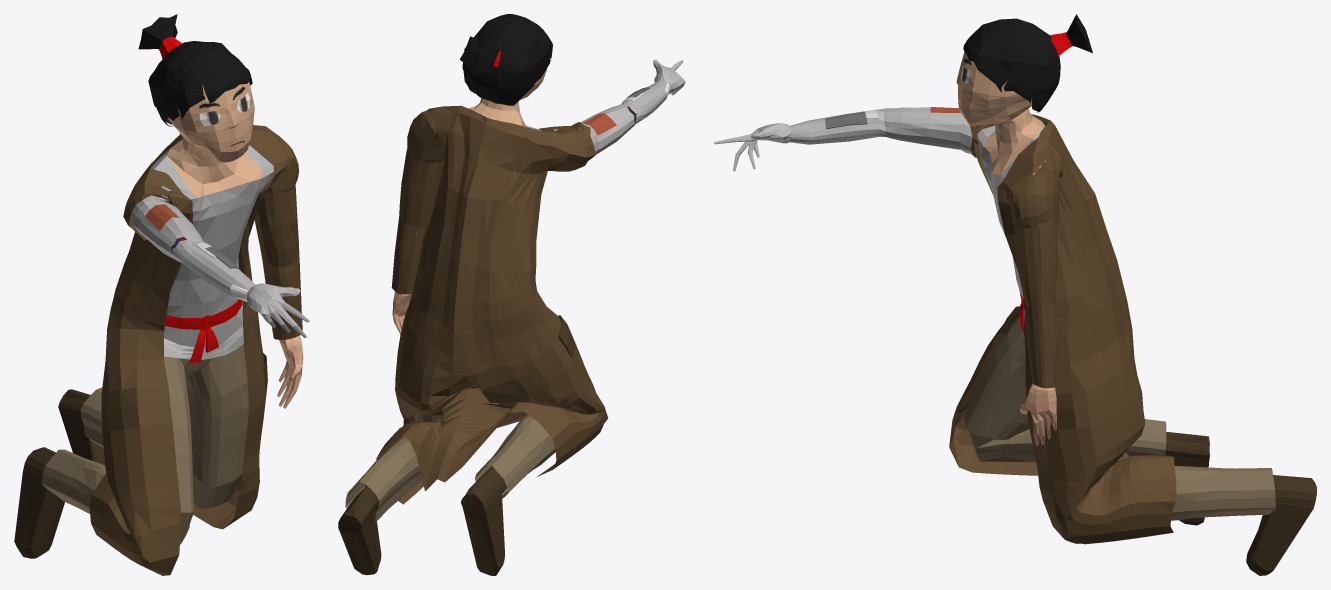
The model's file is One_Die_000028.obj.
3 renders of one model, left to right at view 1: azimuth 30°, elevation 25°; view 2: azimuth 150°, elevation 25°; view 3: azimuth 270°, elevation 25°, orthographic. The views are drawn at different scales.
Parts seen in each view (by area): view 1: Hair_Cube.004; view 2: Hair_Cube.004; view 3: Hair_Cube.004.
Part boxes in pixels (x1,y1,x2,y2): Hair_Cube.004: [14, 14, 309, 575]; Hair_Cube.004: [338, 14, 685, 575]; Hair_Cube.004: [714, 14, 1316, 575].
Size of the model in its own units: 1.16 by 3.03 by 3.06.
